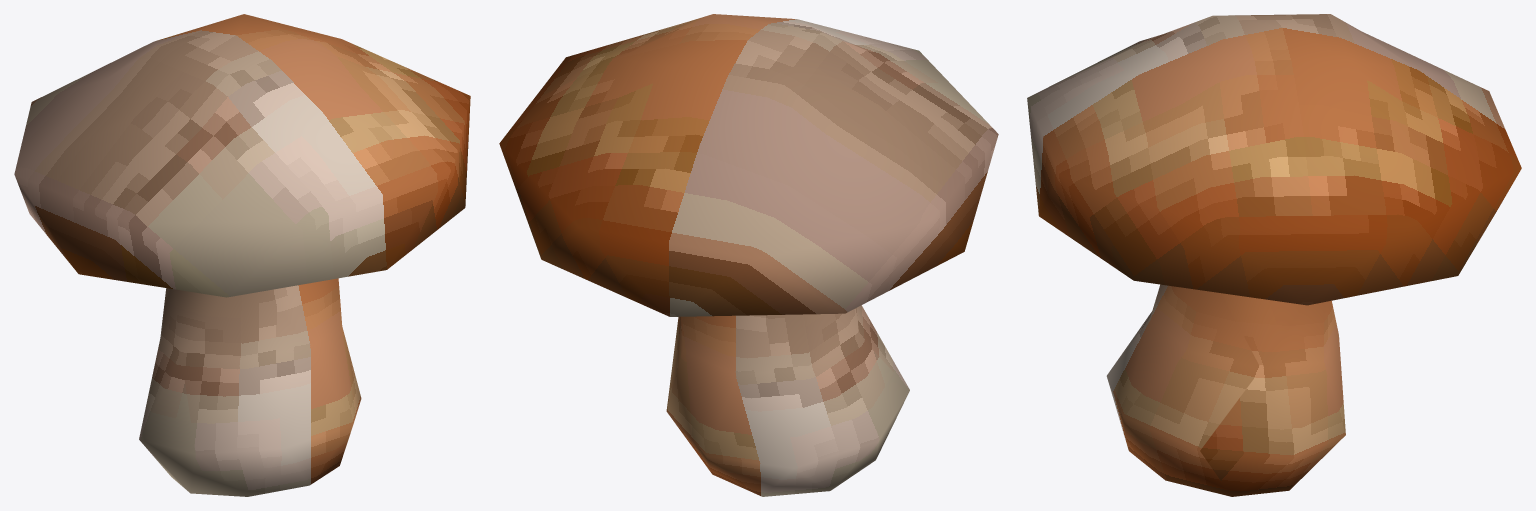
File: fg_mush0.dae
3 views of the same model, side by side, from view 1: azimuth 30°, elevation 25°; view 2: azimuth 150°, elevation 25°; view 3: azimuth 270°, elevation 25° (orthographic). The views are drawn at different scales.
Parts seen in each view (by area): view 1: fg_mush0; view 2: fg_mush0; view 3: fg_mush0.
Boxes of the visible parts, x1=… form: fg_mush0: x1=14, y1=14, x2=470, y2=496; fg_mush0: x1=499, y1=14, x2=998, y2=496; fg_mush0: x1=1027, y1=14, x2=1521, y2=496.
Size of the model in its own units: 12.29 by 12.37 by 12.29.
1 material, 1 textured.
